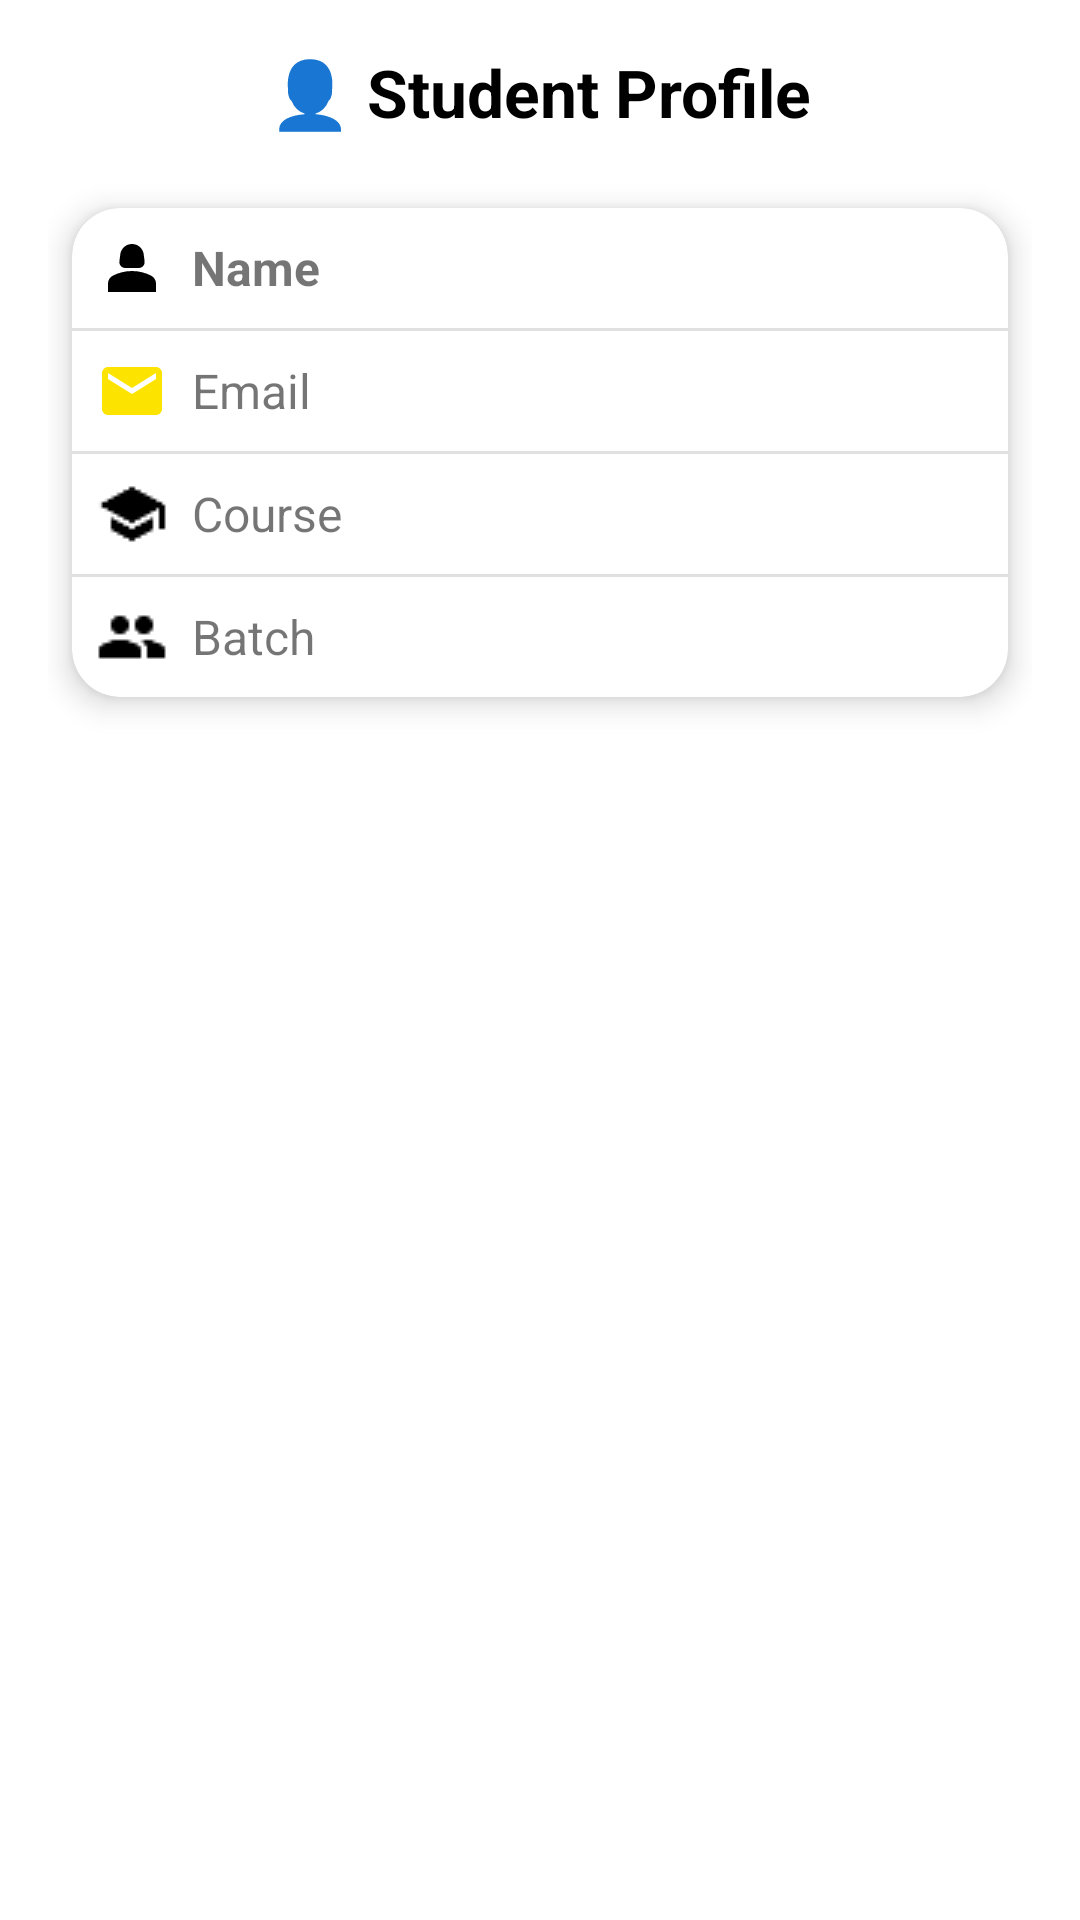

Icon bounding boxes for this 1080*1920 phone screenshot, format (x1, y1, x2, y2):
person: (108, 244, 156, 292)
